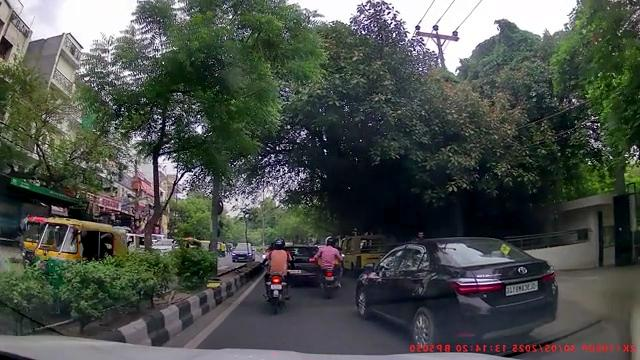motorcycle_with_helmet: (261, 236, 294, 314), (311, 235, 344, 299)
